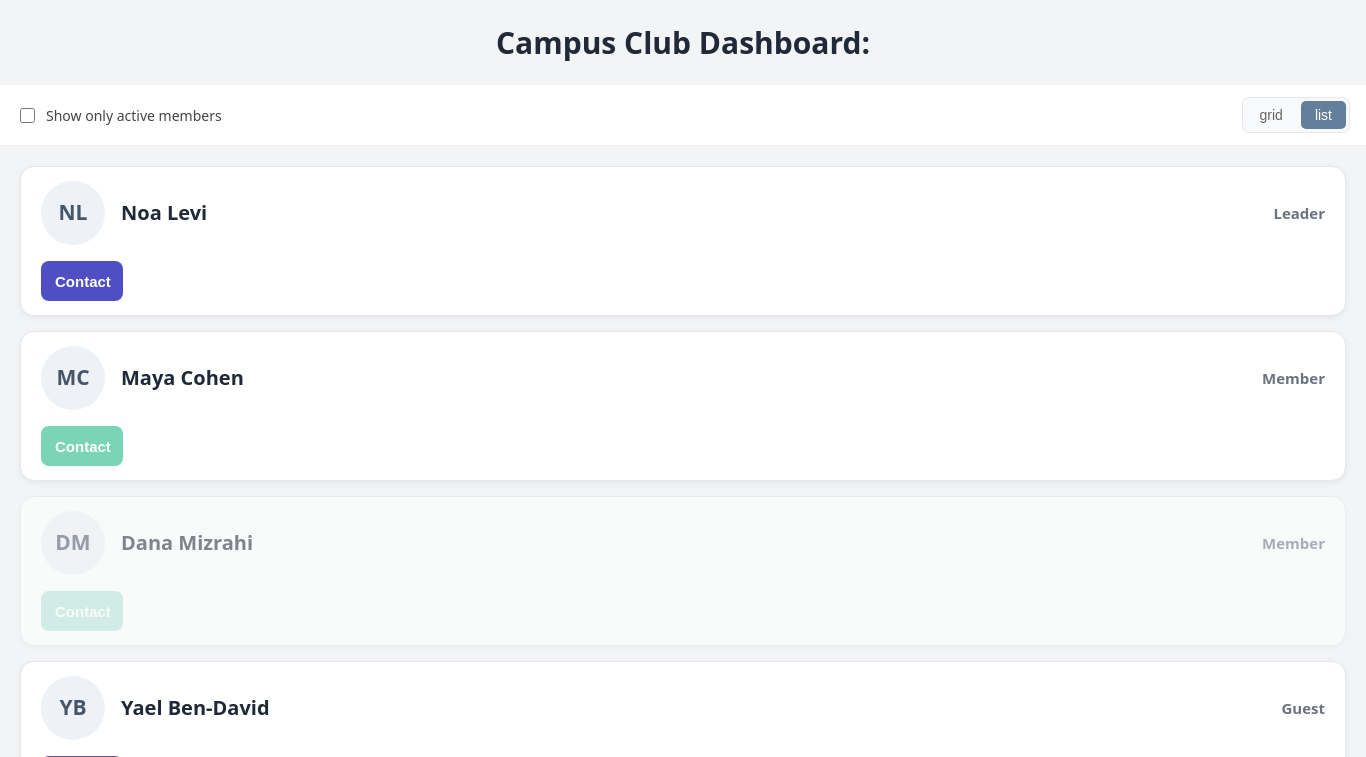
it: App (notice): selecting an inactive member shows a yellow warning notice
Click the heading "Dana Mizrahi" at (187, 543), box [121, 529, 253, 556]
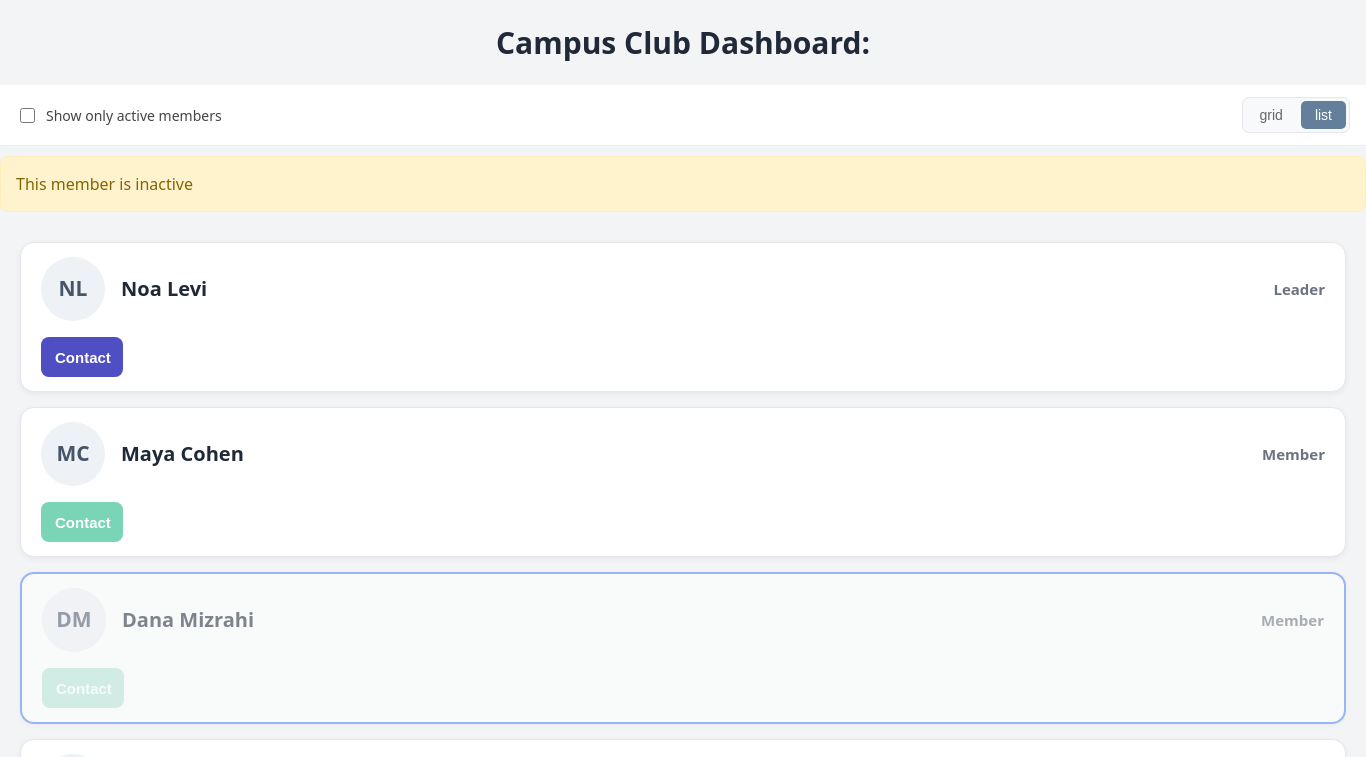
Expected: the text "This member is inactive" is shown, [0, 156, 1365, 212]
Expected: the text with class "notice" reads "This member is inactive", [16, 173, 193, 195]
